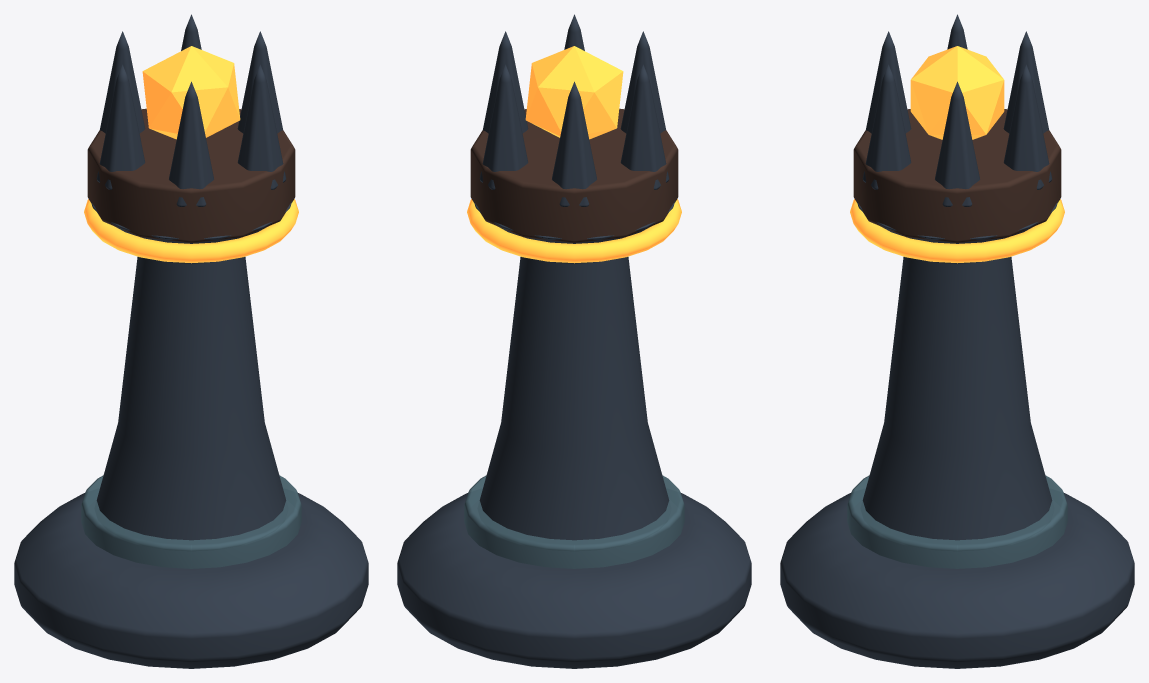
3 views of the same model, side by side, from view 1: azimuth 30°, elevation 25°; view 2: azimuth 150°, elevation 25°; view 3: azimuth 270°, elevation 25° (orthographic).
Parts seen in each view (by area): view 1: SciFi_q_b; view 2: SciFi_q_b; view 3: SciFi_q_b.
Part boxes in pixels (x1,y1,x2,y2): SciFi_q_b: (14,14,368,668); SciFi_q_b: (397,14,751,668); SciFi_q_b: (780,14,1134,668).
Bounding box in the file's own units: 0.58 × 1 × 0.58.
